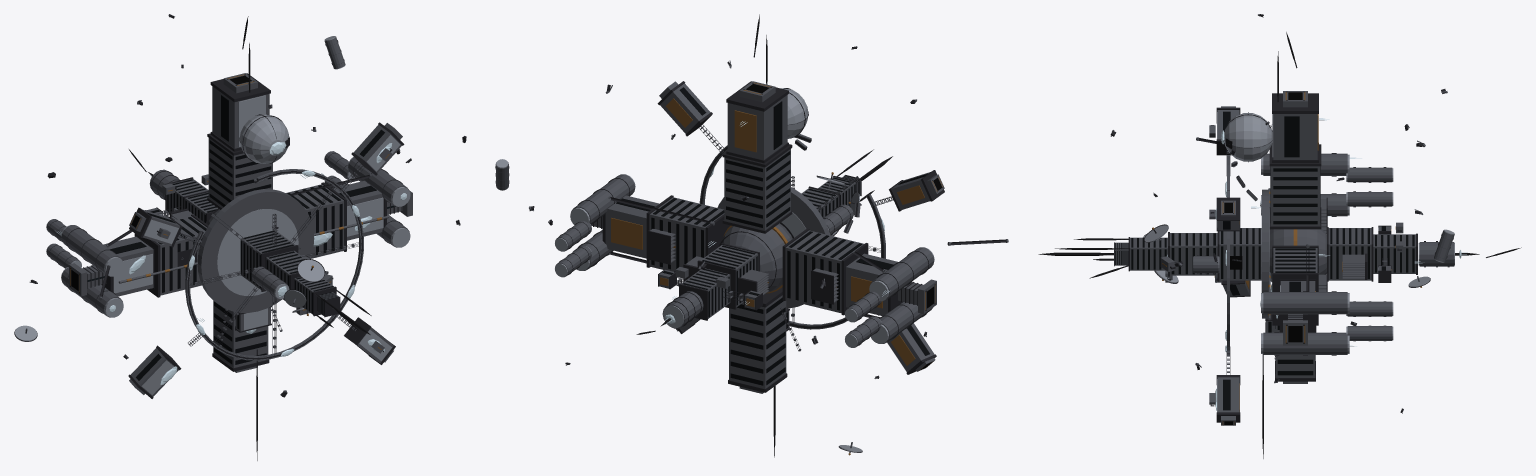
Rendered from halcyon.obj.
The picture shows the model from 3 angles, left to right: view 1: azimuth 30°, elevation 25°; view 2: azimuth 150°, elevation 25°; view 3: azimuth 270°, elevation 25°; orthographic projection. The views are drawn at different scales.
Parts seen in each view (by area): view 1: hull, pale, hull2, window, ice, light; view 2: hull, hull2, window, accent, pale, light; view 3: hull, window, hull2, pale, light, dark.
Part boxes in pixels (bbox=[...]): hull: bbox=[25, 15, 463, 396]; pale: bbox=[15, 36, 410, 395]; hull2: bbox=[14, 14, 466, 398]; window: bbox=[110, 95, 388, 380]; ice: bbox=[54, 142, 406, 384]; light: bbox=[70, 16, 371, 460]; hull: bbox=[495, 46, 1008, 448]; hull2: bbox=[495, 46, 1005, 452]; window: bbox=[616, 87, 929, 385]; accent: bbox=[611, 82, 942, 455]; pale: bbox=[496, 88, 934, 452]; light: bbox=[636, 14, 943, 457]; hull: bbox=[1110, 14, 1454, 425]; window: bbox=[1115, 111, 1414, 410]; hull2: bbox=[1105, 14, 1491, 422]; pale: bbox=[1143, 112, 1454, 411]; light: bbox=[1038, 32, 1521, 458]; dark: bbox=[1224, 92, 1302, 424].
Size of the model in its own units: 185 by 192 by 196.
